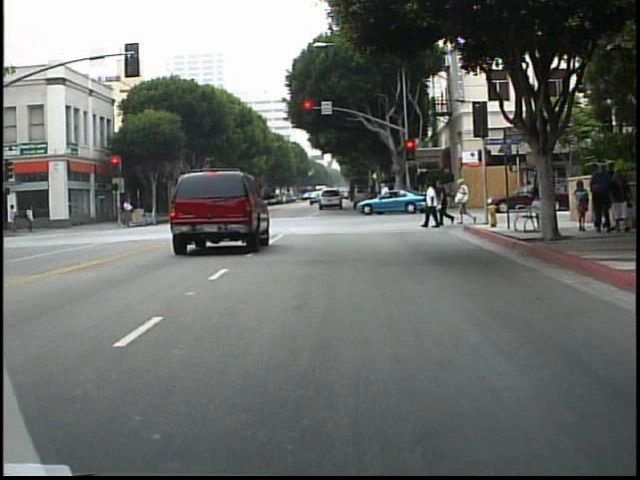person: (570, 176, 591, 235), (529, 165, 548, 226), (422, 181, 444, 229), (457, 177, 475, 228), (439, 179, 457, 228), (236, 180, 254, 228), (379, 178, 396, 216), (8, 200, 24, 235), (24, 201, 40, 236), (143, 192, 158, 229), (365, 182, 380, 215), (123, 195, 137, 230), (404, 181, 417, 214)
